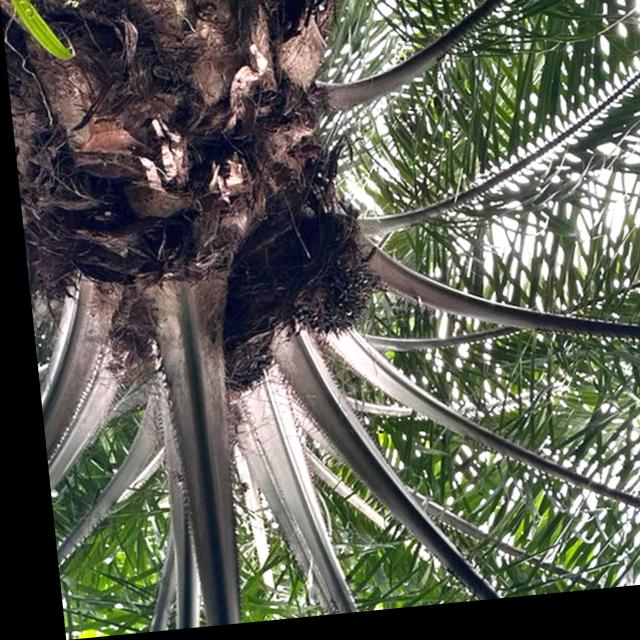unripe: (279, 230, 390, 352), (207, 307, 277, 408)
